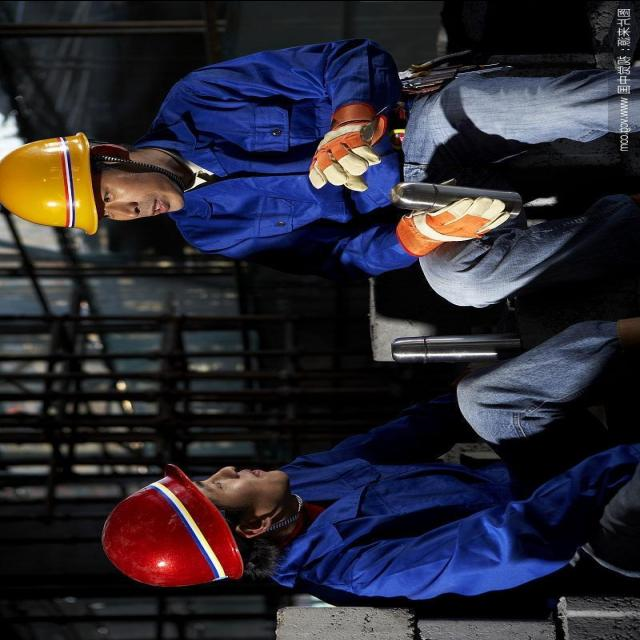helmet: (94, 461, 240, 588), (0, 119, 97, 241)
